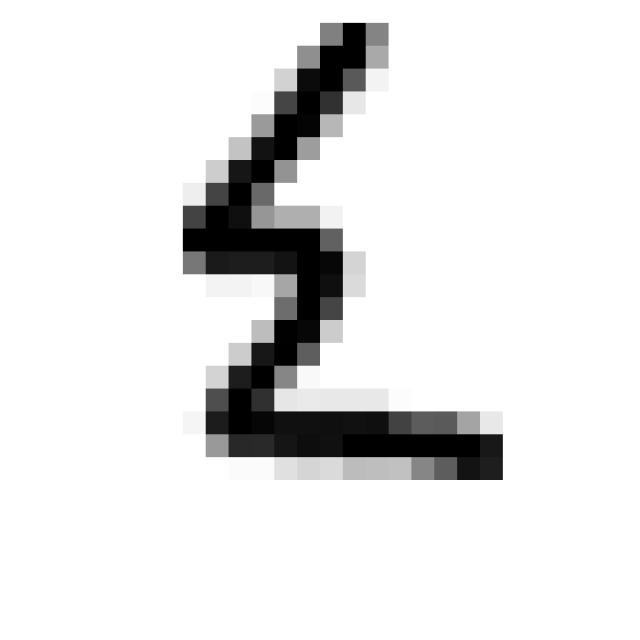4 -four-: (153, 0, 525, 501)
